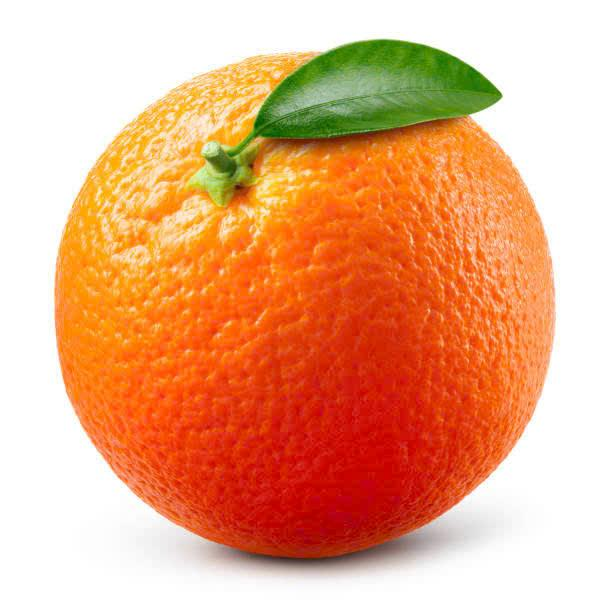orange: (57, 38, 582, 593)
